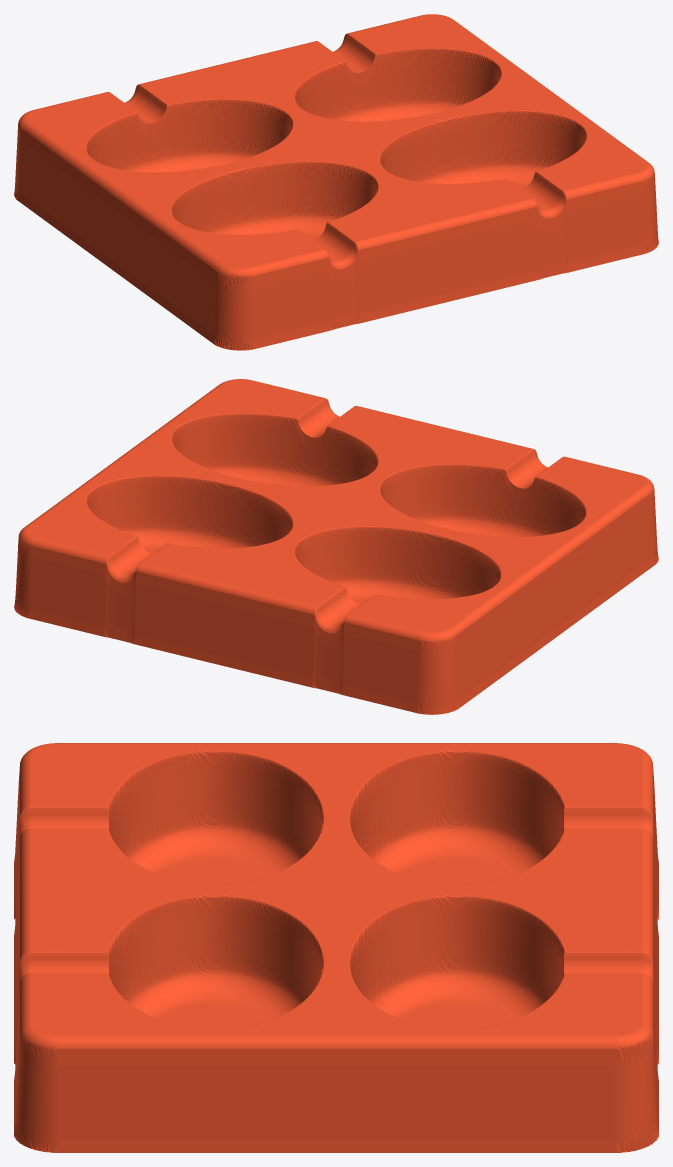
File: mold.glb
3 views of the same model, one above another, from view 1: azimuth 30°, elevation 25°; view 2: azimuth 150°, elevation 25°; view 3: azimuth 270°, elevation 25° (orthographic). The views are drawn at different scales.
Parts seen in each view (by area): view 1: geometry_0; view 2: geometry_0; view 3: geometry_0.
Boxes of the visible parts, x1,y1,x2,y2 form: geometry_0: (14,14,658,350); geometry_0: (14,379,658,714); geometry_0: (14,743,658,1152).
Size of the model in its own units: 0.1468 by 0.0245 by 0.1305.
